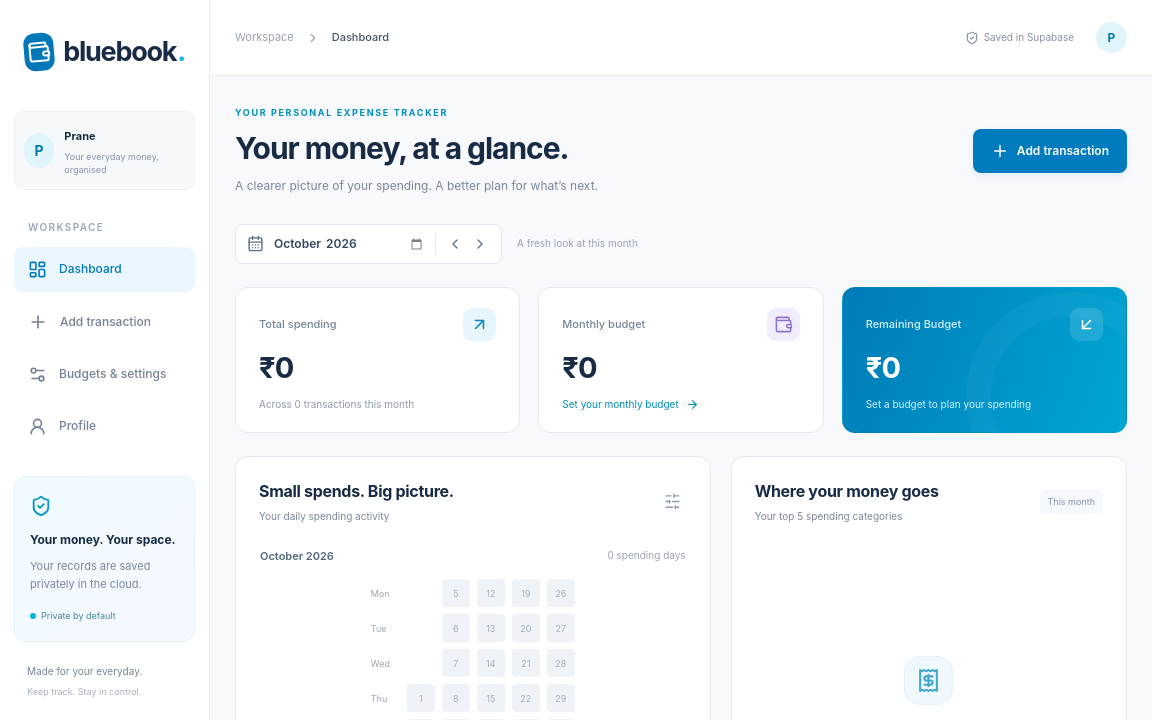
Supabase accounts › updates the profile, offers phone navigation, and signs out
expect the heading "Your money, at a glance." is shown: met, box [235,128,598,168]
Click the button named "Open your profile": (1112, 38) [1096,22,1127,53]
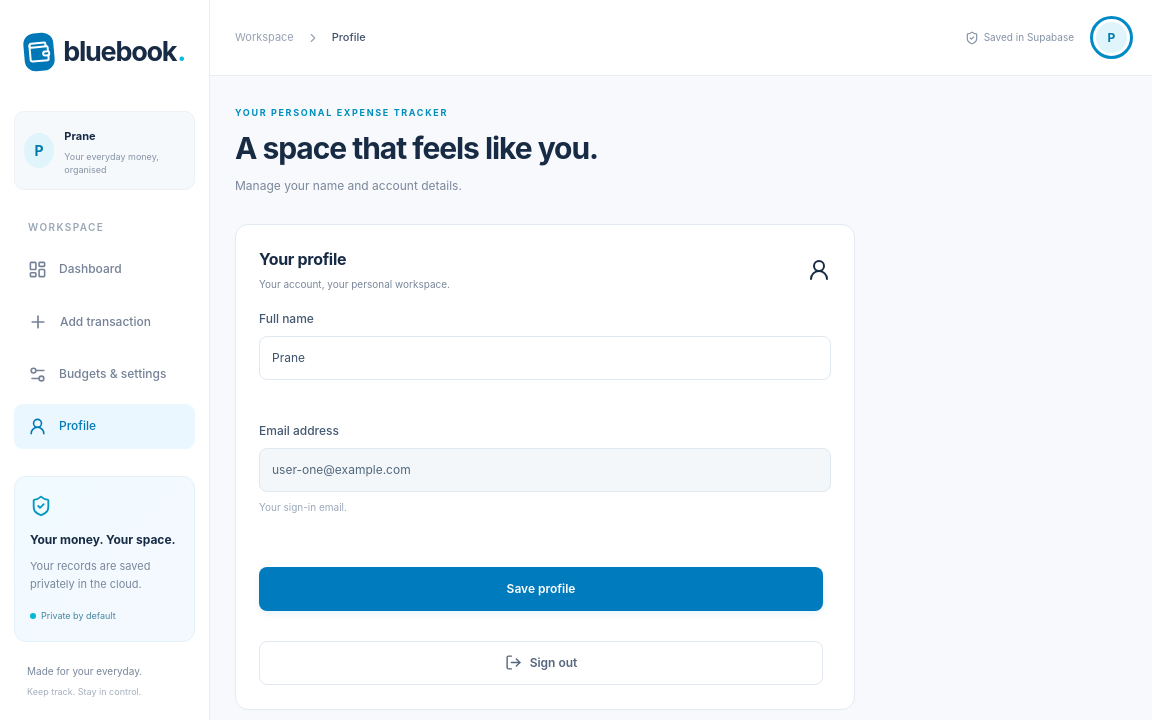
Replace the text in the field labelled "Full name" with "Prane Kumar": (545, 358) [259,336,831,380]
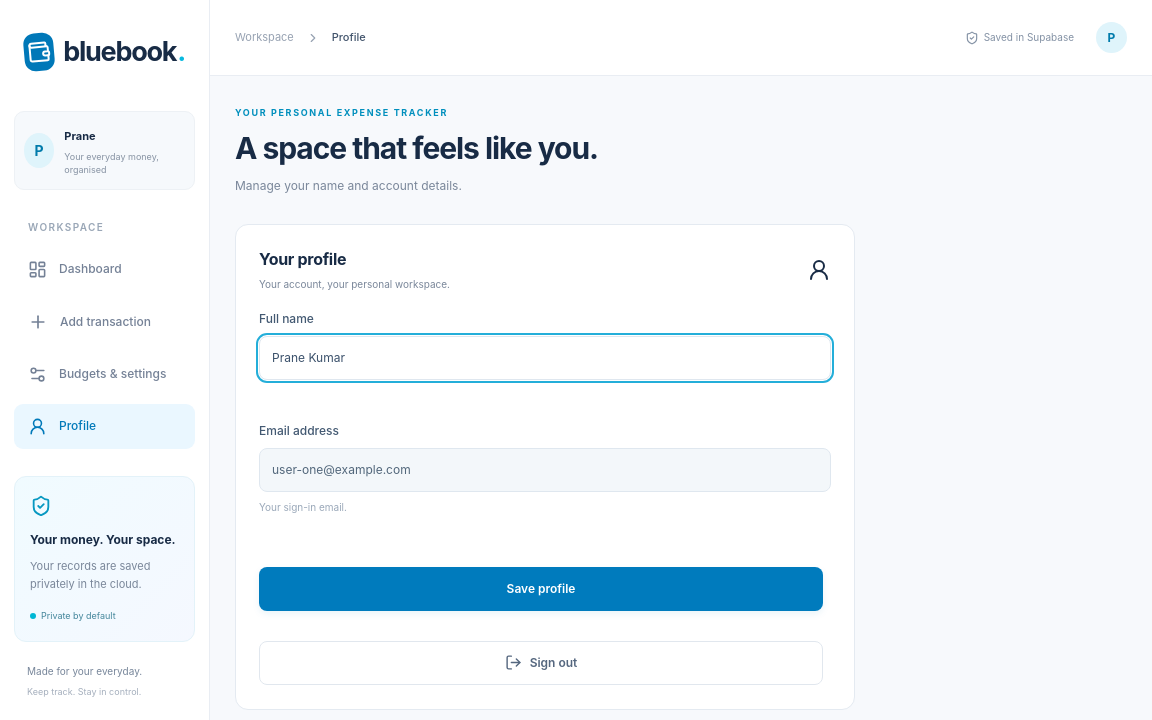
Click the button "Save profile": (541, 589) [259,567,823,611]
(page scrolled)
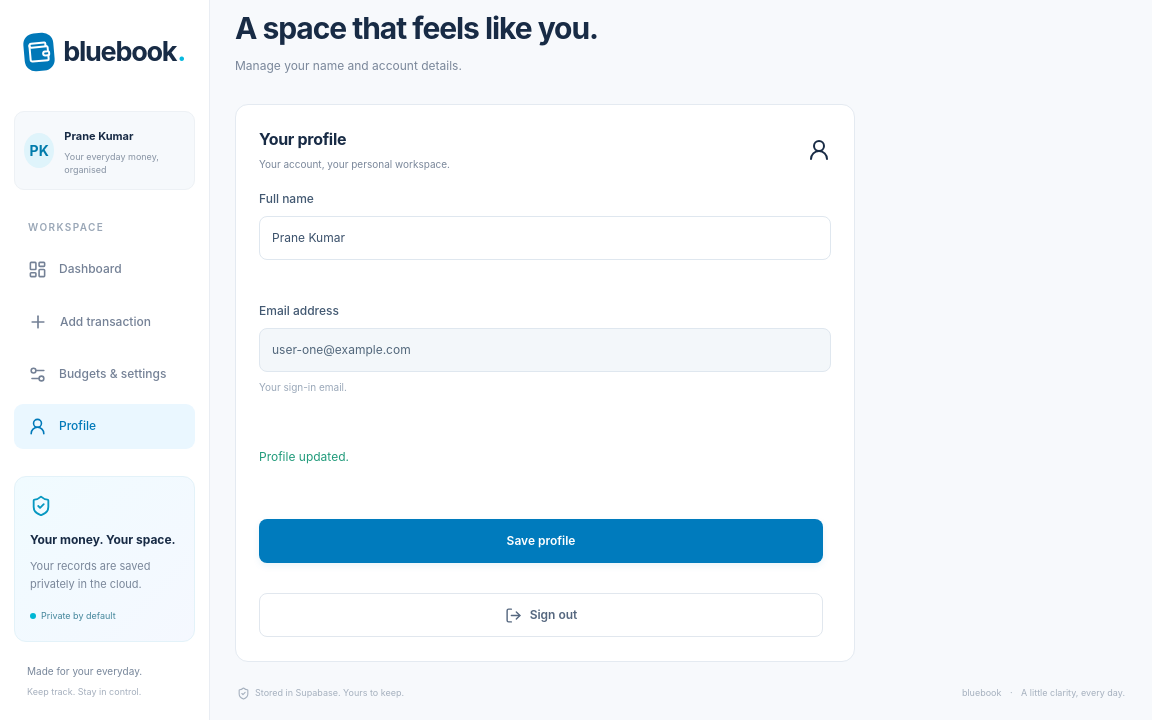
expect the message shows "Profile updated": met, box [259,449,349,464]
expect the text "Prane Kumar" is shown: met, box [64,128,134,142]
Click the button "Sign out": (541, 615) [259,593,823,637]
(page scrolled)
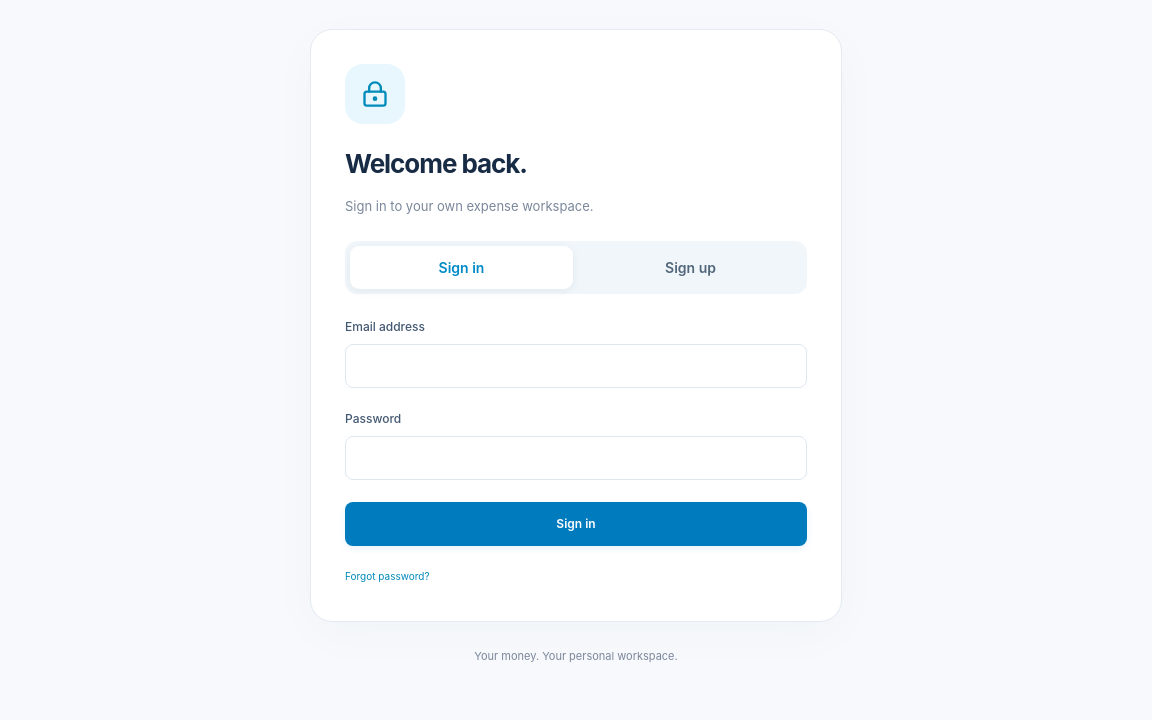
expect the heading "Welcome back." is shown: met, box [345,148,527,178]
expect the heading "Your profile" is gone: met
